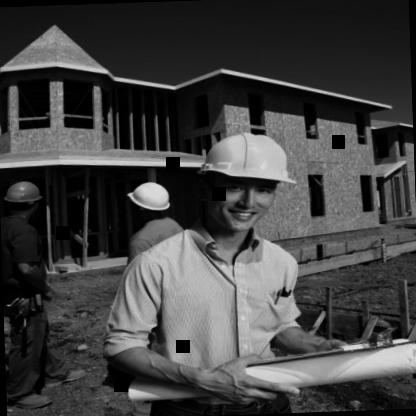helmet: (188, 126, 298, 235), (126, 177, 174, 221), (0, 179, 46, 221)
